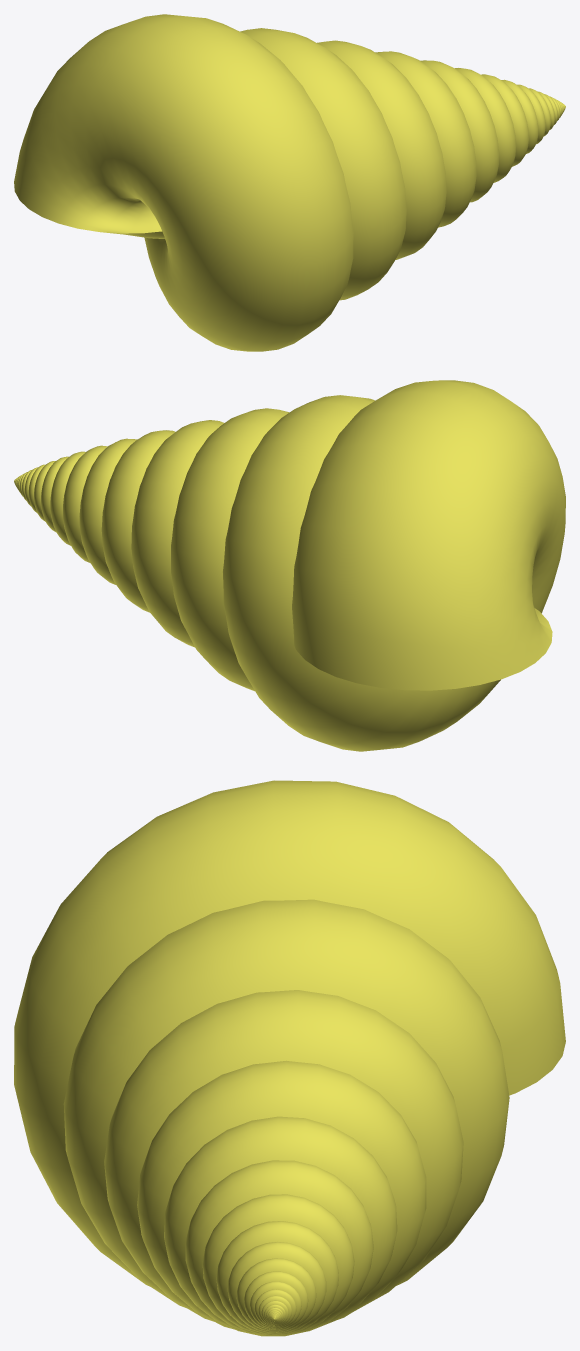
3 renders of one model, top to bottom at view 1: azimuth 30°, elevation 25°; view 2: azimuth 150°, elevation 25°; view 3: azimuth 270°, elevation 25°, orthographic. The views are drawn at different scales.
Visible parts, largest first — view 1: t27; view 2: t27; view 3: t27.
Part boxes in pixels (box(x1,y1,x2,y2)): t27: box(14, 14, 565, 351); t27: box(14, 380, 565, 751); t27: box(14, 780, 565, 1336).
Size of the model in its own units: 500 by 303 by 318.
